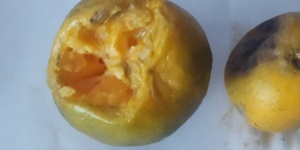BAD: (41, 2, 210, 145), (219, 11, 300, 133)
